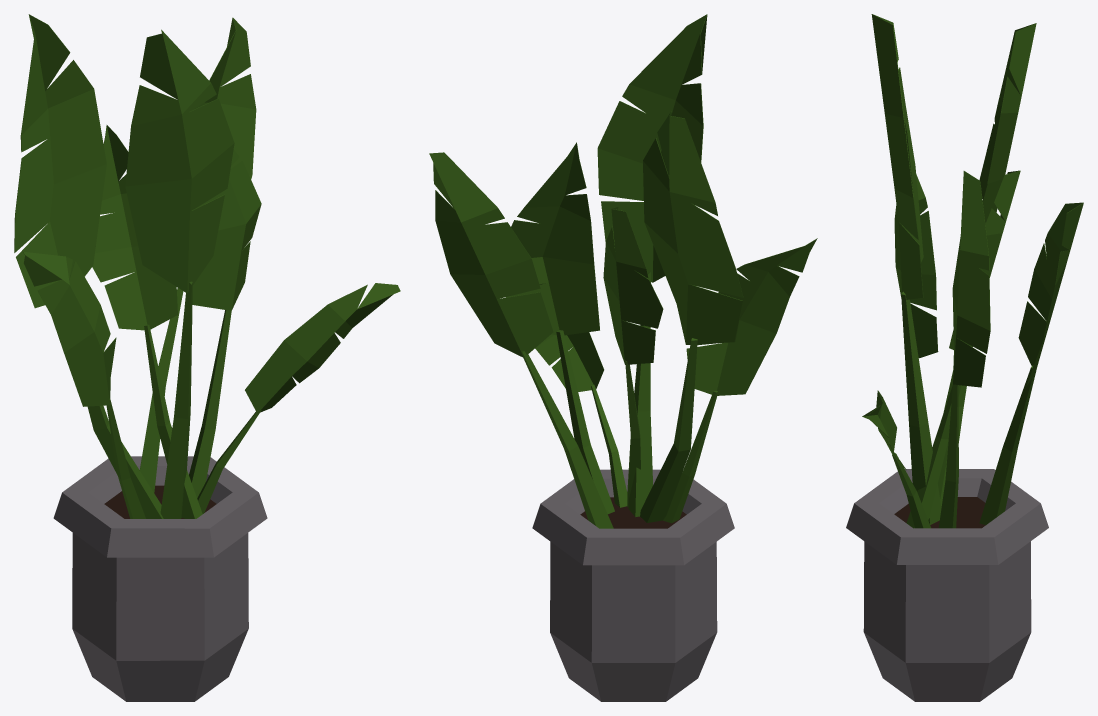
The model's file is flower-pot-b.glb.
3 renders of one model, left to right at view 1: azimuth 30°, elevation 25°; view 2: azimuth 150°, elevation 25°; view 3: azimuth 270°, elevation 25°, orthographic. The views are drawn at different scales.
Visible parts, largest first — view 1: FlowerPot4; view 2: FlowerPot4; view 3: FlowerPot4.
Boxes of the visible parts, box(x1,y1,x2,y2) form: FlowerPot4: box(14, 14, 400, 701); FlowerPot4: box(429, 14, 817, 701); FlowerPot4: box(846, 14, 1083, 701).
Bounding box in the file's own units: 1.03 × 1.85 × 0.6182.
1 material, 1 textured.
